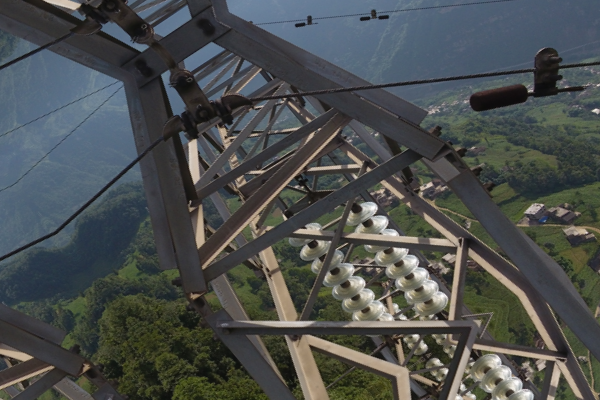damper: (358, 9, 391, 23)
damper_defect: (467, 44, 589, 113), (294, 14, 320, 29)
